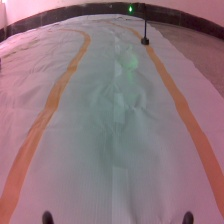green: (126, 2, 150, 47)
stop: (126, 1, 152, 46)
